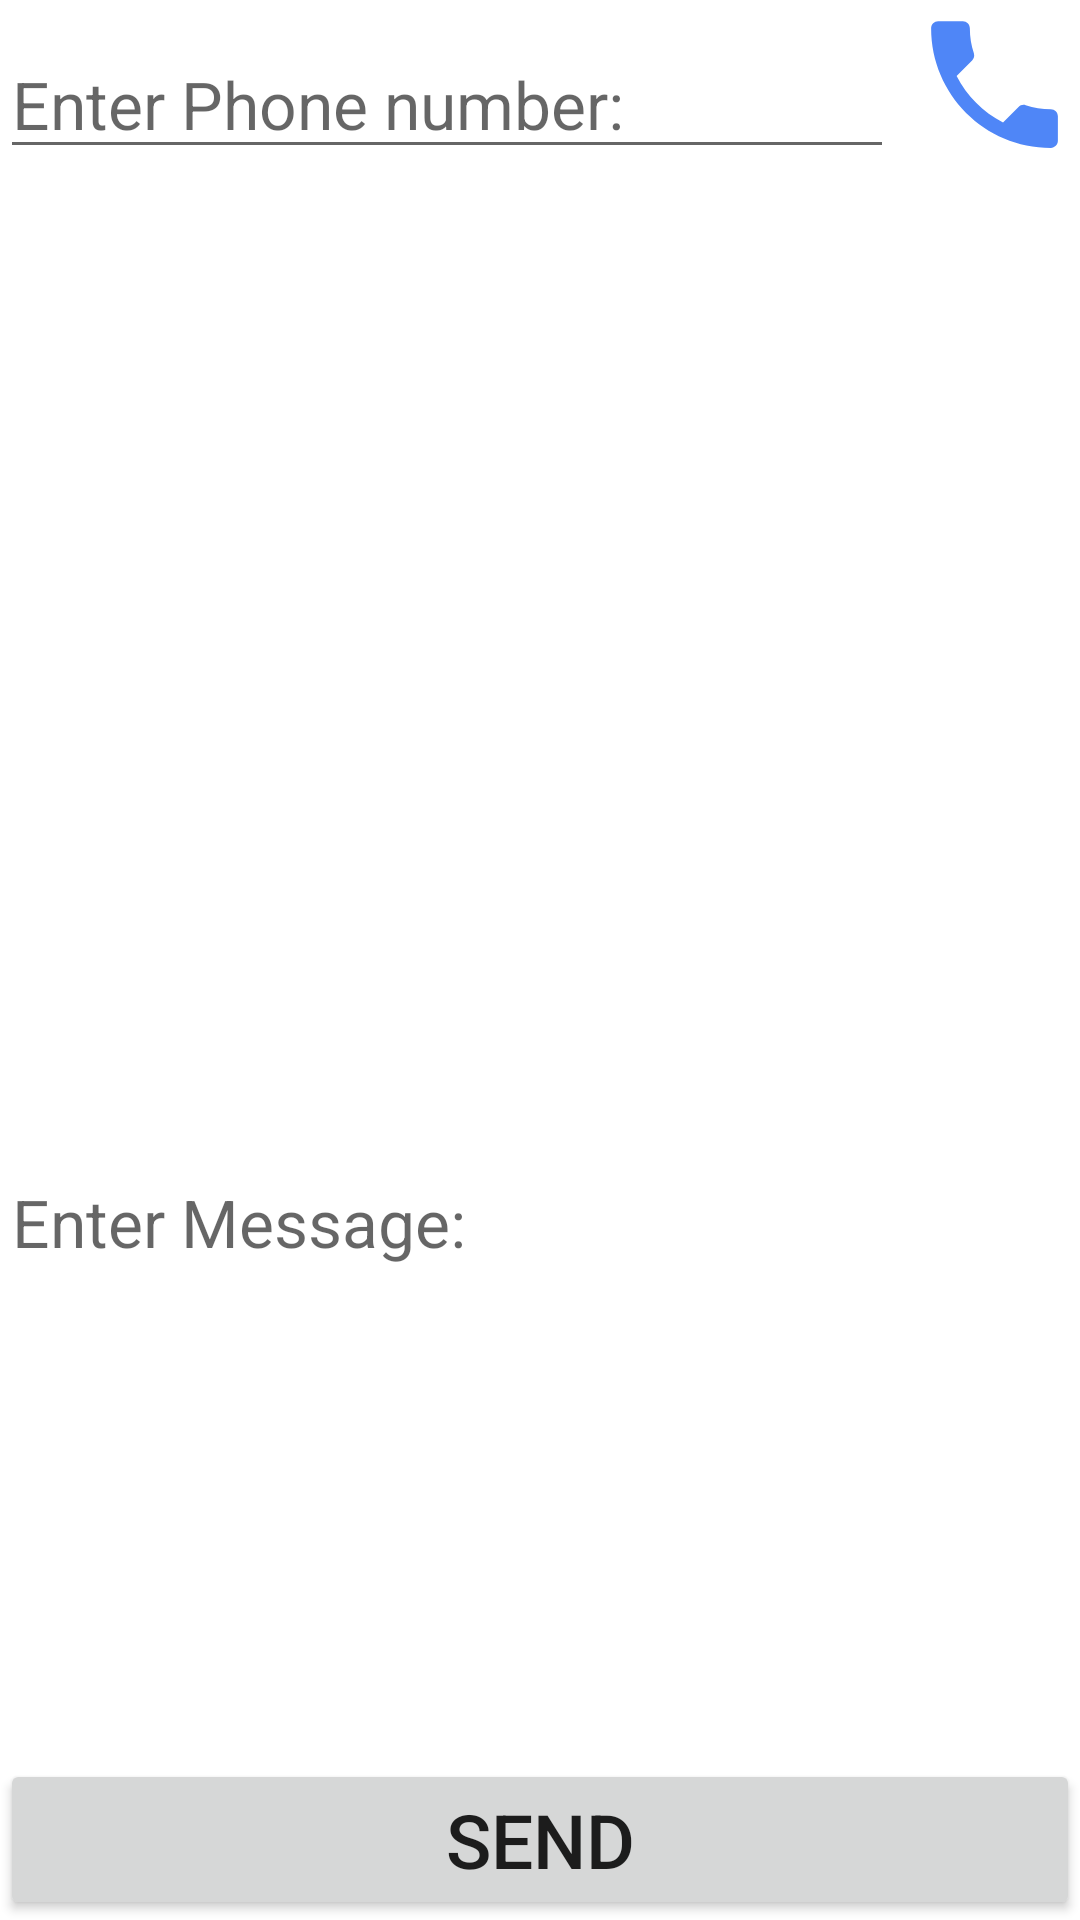

Icons on this 1080x1920 Android screen, each with the point to tap as [x,y]:
call: [994,84]
